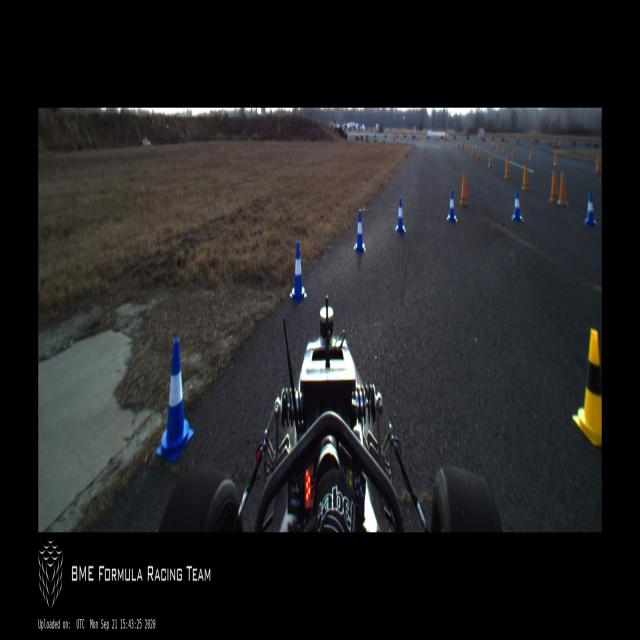blue_cone: (155, 338, 194, 462), (289, 240, 307, 302), (353, 209, 366, 253), (584, 192, 597, 227), (511, 188, 524, 222), (395, 196, 406, 234), (447, 189, 457, 223)
unknown_cone: (556, 171, 570, 207), (460, 168, 470, 206), (548, 168, 558, 202), (521, 161, 531, 191), (504, 156, 511, 179), (488, 150, 493, 168), (595, 156, 600, 174), (478, 146, 482, 162), (554, 150, 558, 164), (530, 148, 533, 160), (472, 144, 474, 158), (465, 142, 467, 153)
yellow_cone: (572, 328, 602, 444)
